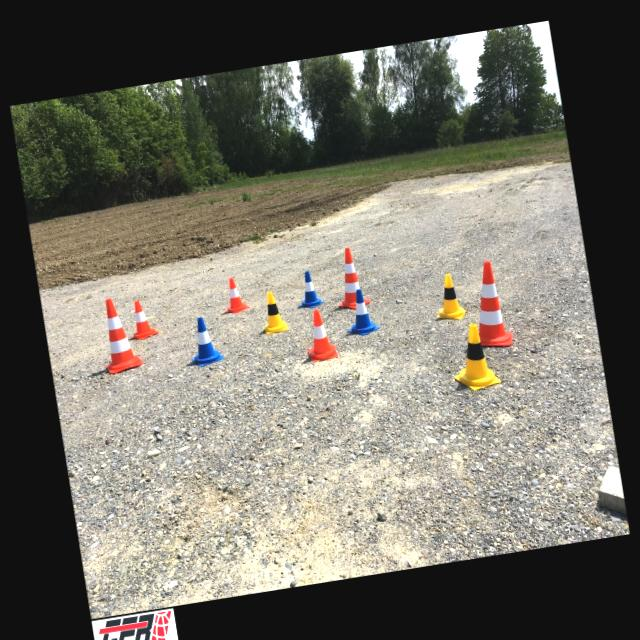blue_cone: (185, 315, 225, 368), (342, 286, 381, 338), (294, 269, 324, 310)
large_orange_cone: (468, 259, 514, 350), (96, 296, 144, 374), (330, 246, 371, 310)
orange_cone: (302, 308, 338, 362), (126, 298, 160, 341), (220, 276, 250, 314)
yellow_cone: (446, 322, 502, 394), (432, 272, 466, 322), (258, 290, 288, 334)
